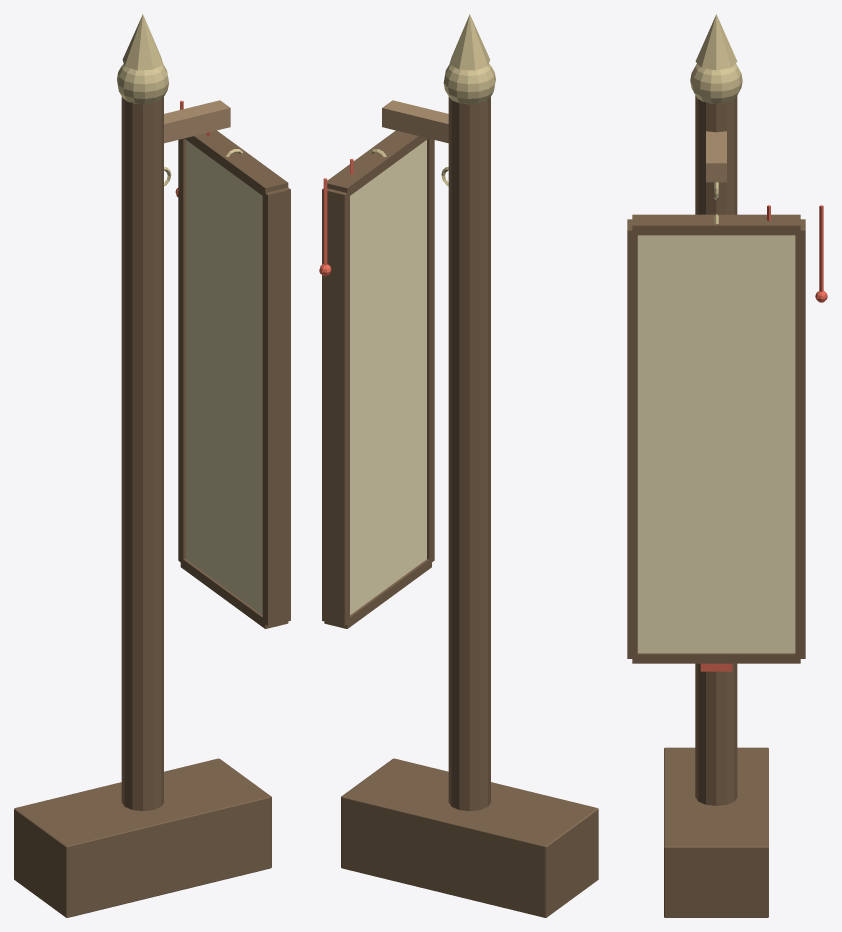
The model's file is kanban_sign.glb.
The picture shows the model from 3 angles, left to right: view 1: azimuth 30°, elevation 25°; view 2: azimuth 150°, elevation 25°; view 3: azimuth 270°, elevation 25°; orthographic projection.
Parts seen in each view (by area): view 1: kanban_sign; view 2: kanban_sign; view 3: kanban_sign.
Part boxes in pixels (x1=…): kanban_sign: x1=14, y1=14, x2=290, y2=917; kanban_sign: x1=319, y1=14, x2=598, y2=917; kanban_sign: x1=627, y1=14, x2=827, y2=917.
Size of the model in its own units: 0.45 by 1.79 by 0.382.
